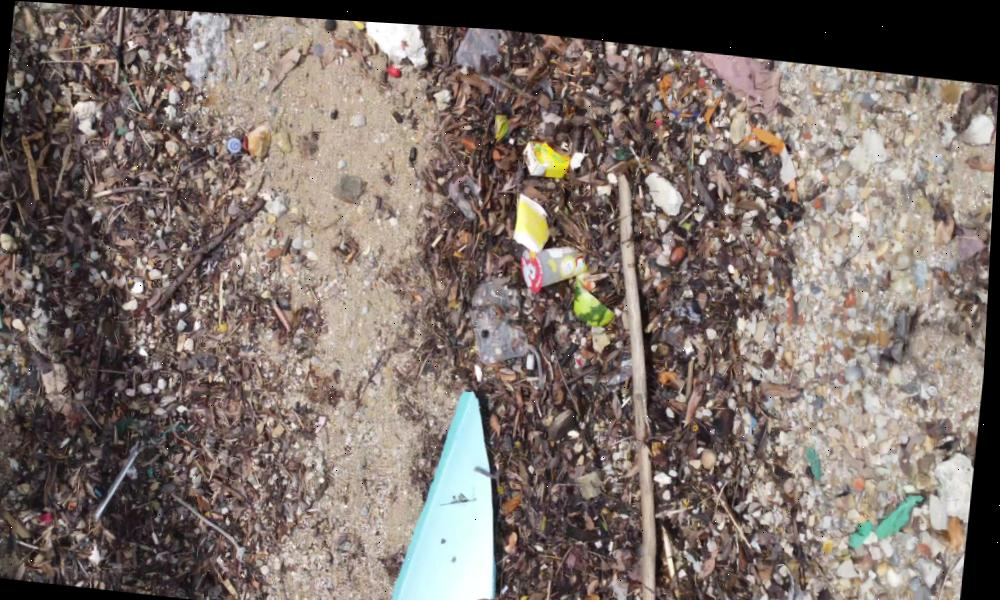carton: (514, 190, 556, 246)
plastic bag: (181, 9, 228, 85)
plastic bottle: (521, 233, 592, 289)
styrofoam: (355, 17, 433, 67)
